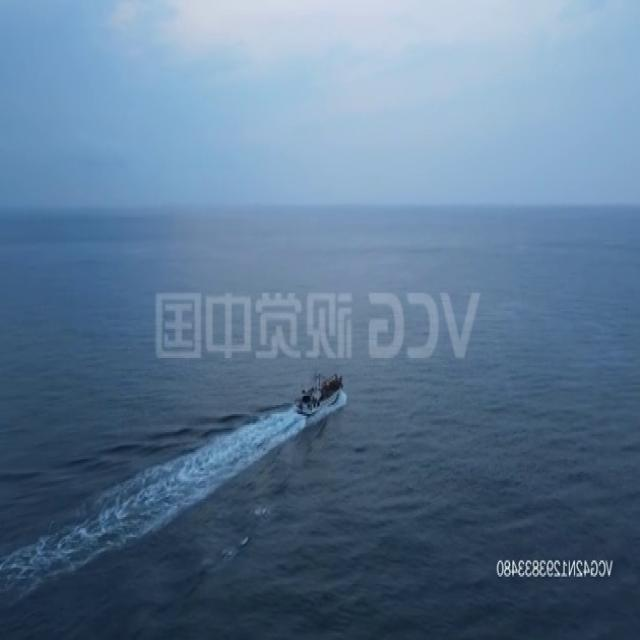houseboat: (296, 365, 343, 416)
